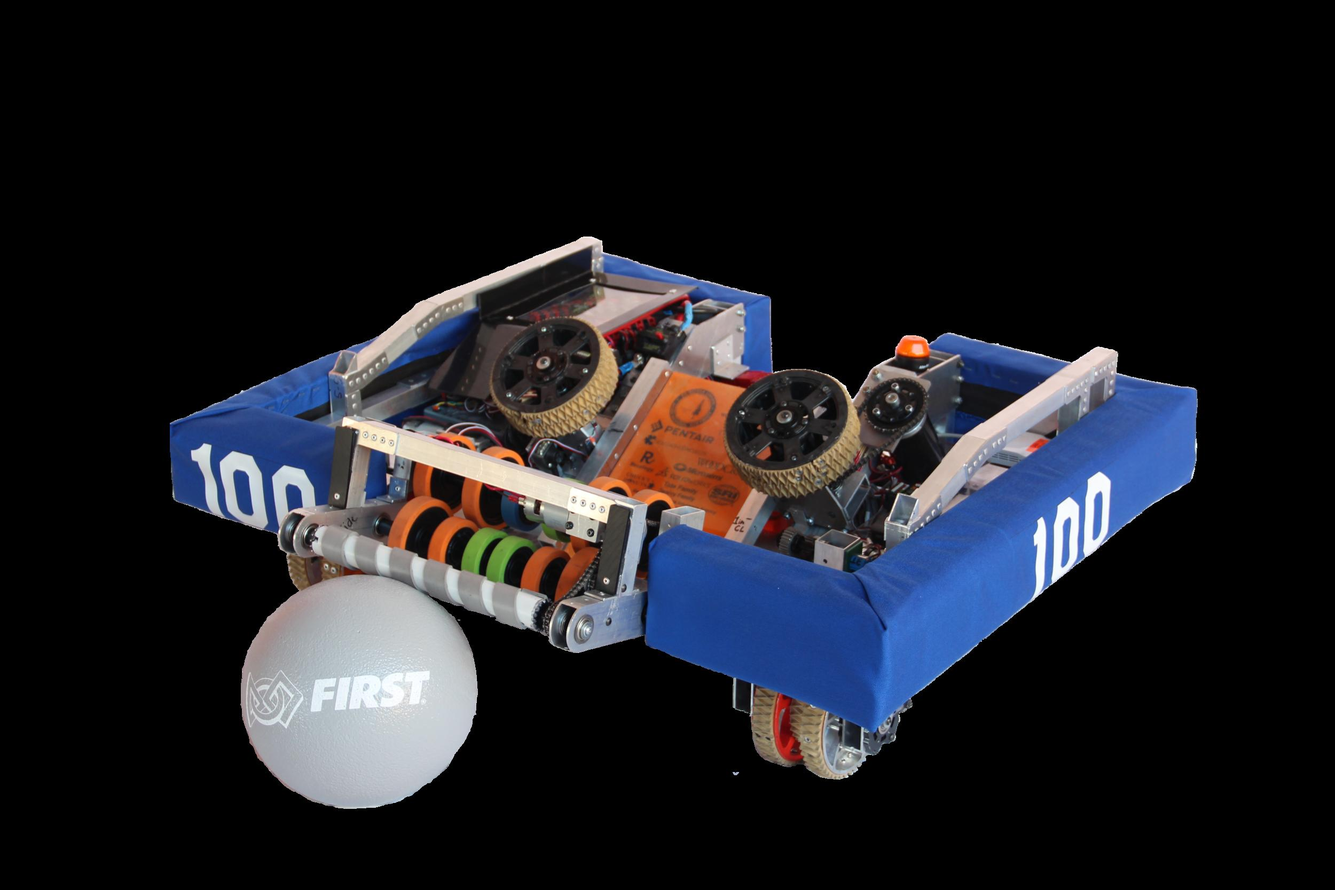robot: (162, 238, 1203, 791)
